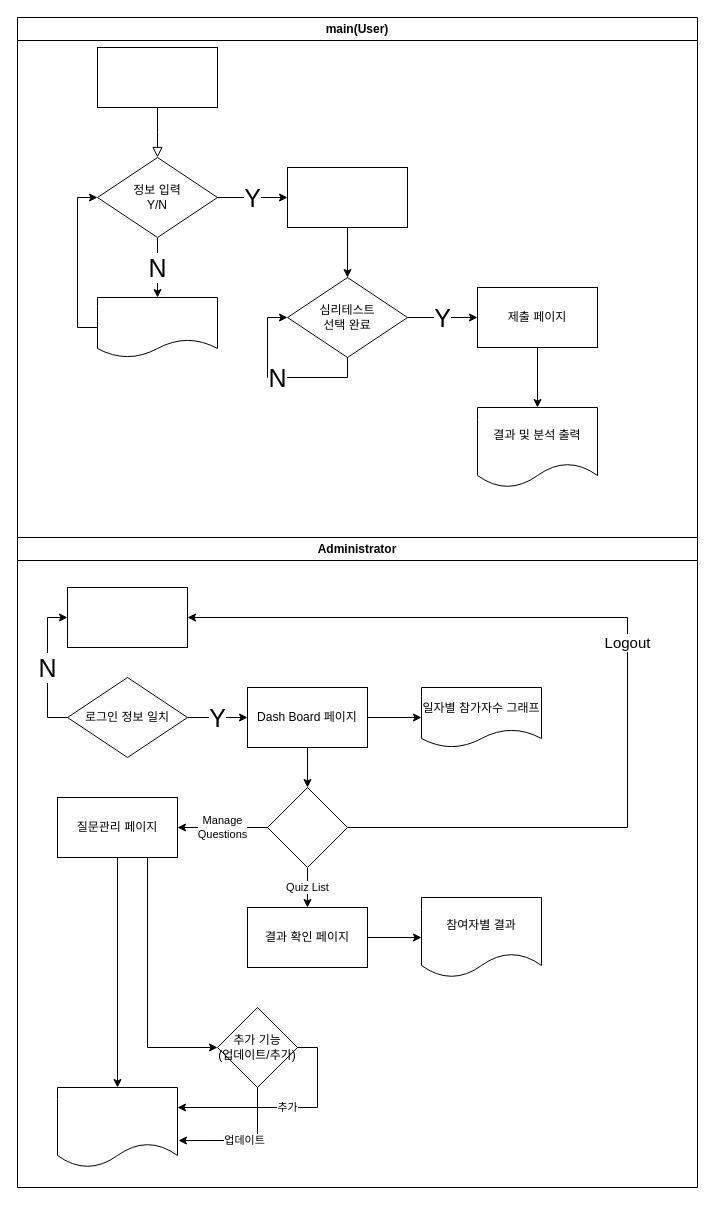
Image size: 715x1205. Some labels were removed from this diagram. The centre of each missing label's shape, as x and y in pixels:
"Admin 페이지" belongs at point (127, 617).
"메인 페이지" belongs at point (157, 77).
"심리테스트 페이지" belongs at point (347, 197).
"원하는 기능 버튼 클릭" belongs at point (307, 827).
"정보를 입력해 주세요" belongs at point (157, 327).
"질문 리스트 및 번호 활성화 상태" belongs at point (117, 1127).
